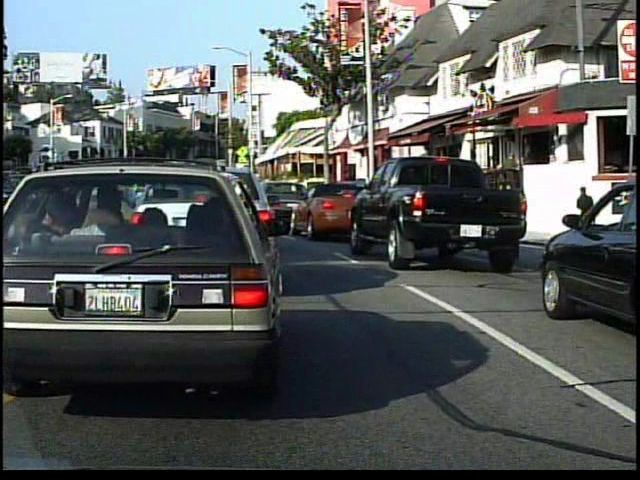person: (496, 149, 520, 201)
